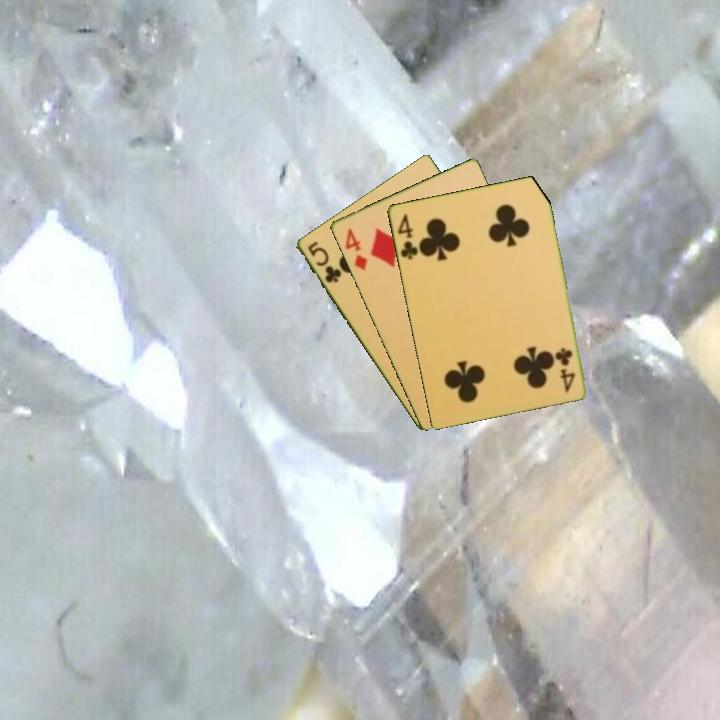4c: (394, 210, 421, 262), (554, 344, 578, 395)
4d: (341, 224, 370, 273)
5c: (304, 237, 344, 286)
